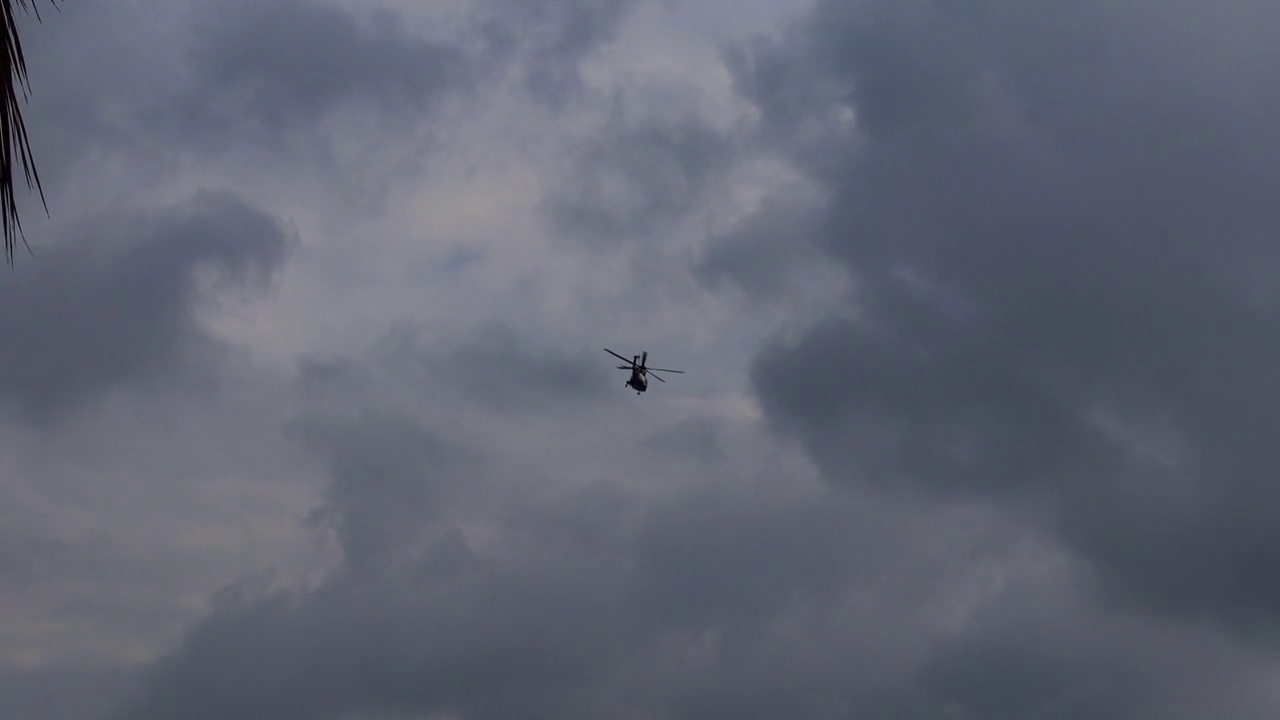heli: (605, 347, 683, 395)
